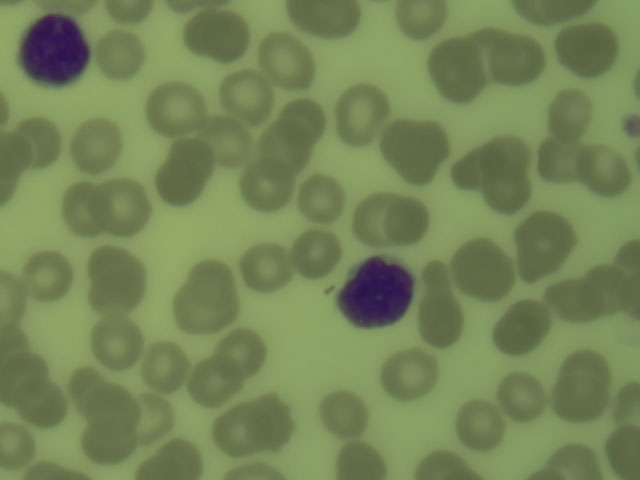Platelets: (622, 113, 640, 140)
RBC: (255, 32, 321, 91), (453, 240, 515, 299), (216, 67, 278, 121), (333, 86, 389, 144), (492, 300, 547, 358), (146, 81, 206, 134), (89, 315, 146, 370), (381, 351, 442, 402), (70, 116, 124, 172), (352, 194, 404, 251), (215, 327, 273, 378), (514, 224, 563, 283), (580, 148, 634, 200), (24, 252, 77, 304), (291, 227, 349, 274), (583, 265, 634, 318), (243, 157, 296, 207), (171, 286, 228, 332), (550, 378, 610, 421), (16, 121, 67, 170), (262, 121, 310, 173), (213, 405, 260, 458), (573, 27, 619, 81), (1, 356, 46, 410), (151, 161, 207, 204), (383, 194, 430, 245), (461, 26, 513, 72), (80, 278, 146, 314), (255, 393, 299, 447), (525, 216, 580, 259), (319, 386, 369, 433), (498, 34, 544, 84), (142, 345, 191, 391), (96, 35, 146, 80), (300, 171, 345, 221), (337, 438, 390, 480), (396, 2, 453, 41), (63, 183, 104, 237), (278, 99, 332, 140), (377, 118, 425, 164), (500, 373, 546, 421), (22, 378, 67, 427), (413, 121, 451, 179), (215, 8, 254, 64), (200, 119, 249, 163), (106, 180, 147, 232), (561, 348, 614, 388), (242, 245, 288, 290), (458, 405, 502, 452), (189, 260, 238, 302), (443, 56, 483, 107), (186, 362, 231, 407), (69, 364, 113, 410), (537, 140, 584, 183), (89, 388, 140, 427), (151, 441, 206, 477), (604, 425, 640, 480), (542, 279, 588, 322), (546, 445, 602, 480), (419, 297, 464, 340), (85, 420, 134, 459), (549, 88, 587, 138), (132, 399, 181, 437), (302, 3, 360, 35), (1, 421, 38, 470), (415, 448, 469, 480), (489, 167, 528, 211), (93, 245, 139, 282), (451, 149, 486, 191), (1, 270, 28, 324), (432, 46, 480, 76), (1, 132, 32, 178), (1, 327, 30, 376), (488, 137, 526, 174), (104, 1, 154, 28), (189, 11, 220, 53), (175, 141, 213, 174), (544, 1, 601, 20), (556, 26, 586, 62), (615, 386, 640, 427)
WBC: (338, 256, 420, 331), (17, 15, 96, 89)
